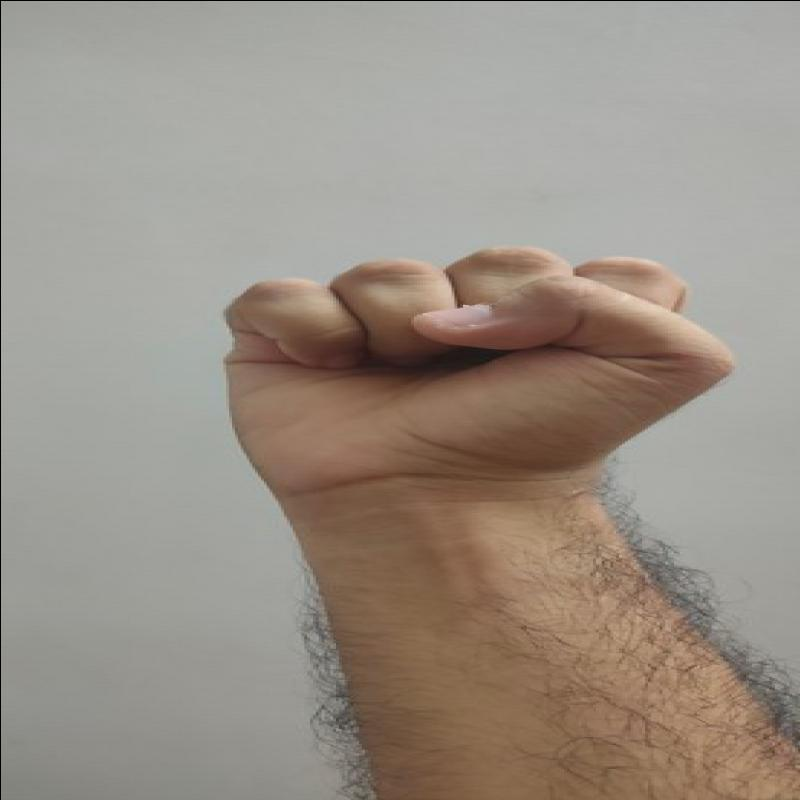Mushti: (212, 221, 744, 496)
